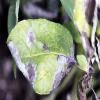Potato leaf late blight: (6, 18, 76, 95)
